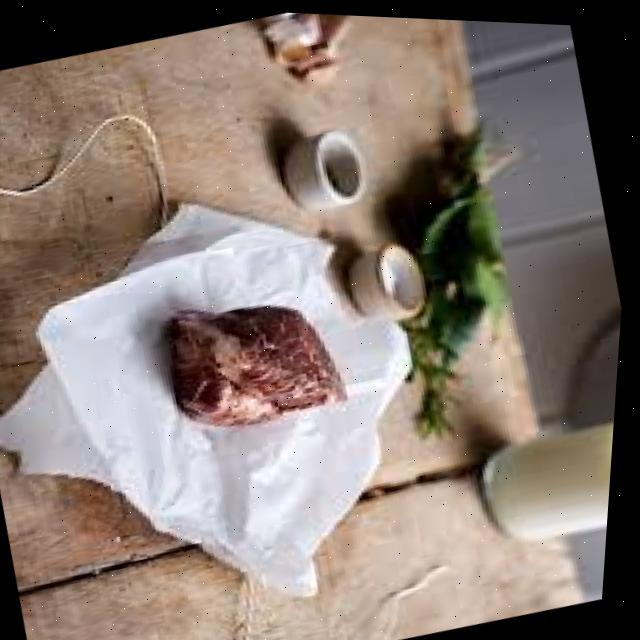Wet: (129, 253, 383, 481)
